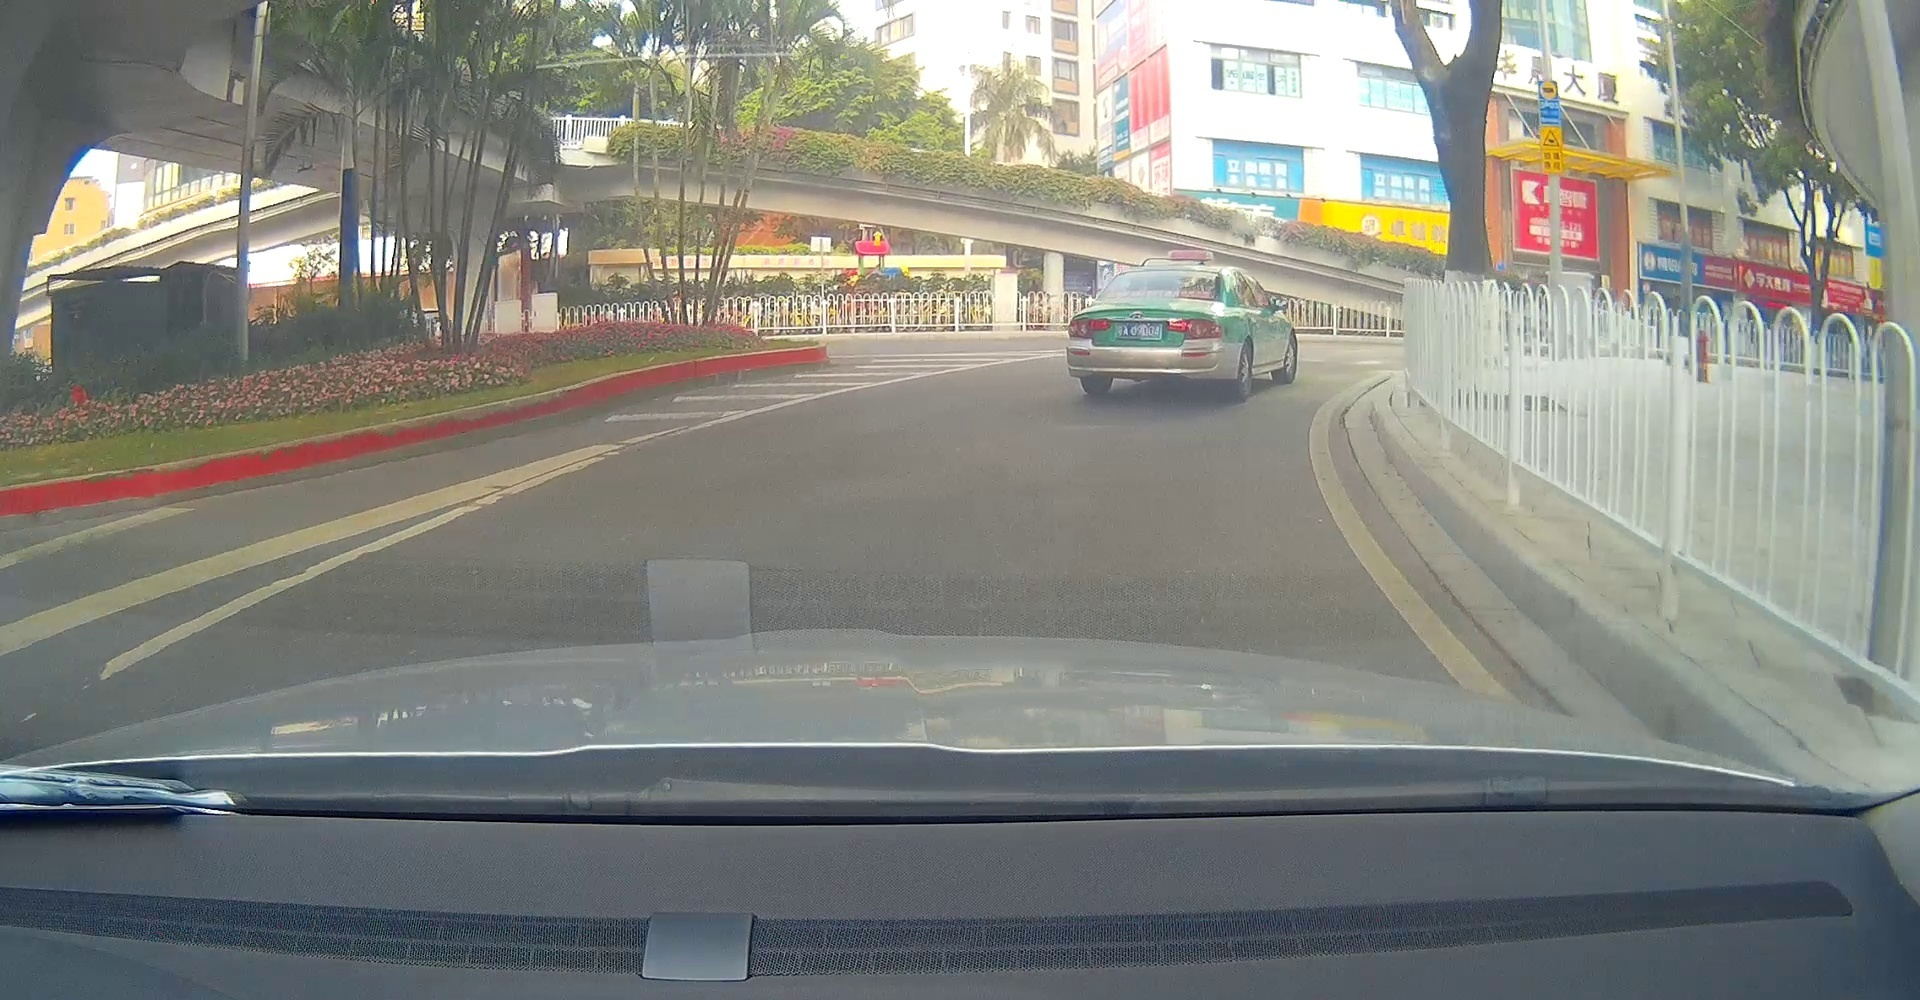L_light: (1067, 319, 1112, 338)
R_light: (1167, 319, 1222, 340)
T_light: (1163, 270, 1185, 274)
day-no: (1065, 266, 1236, 404)
